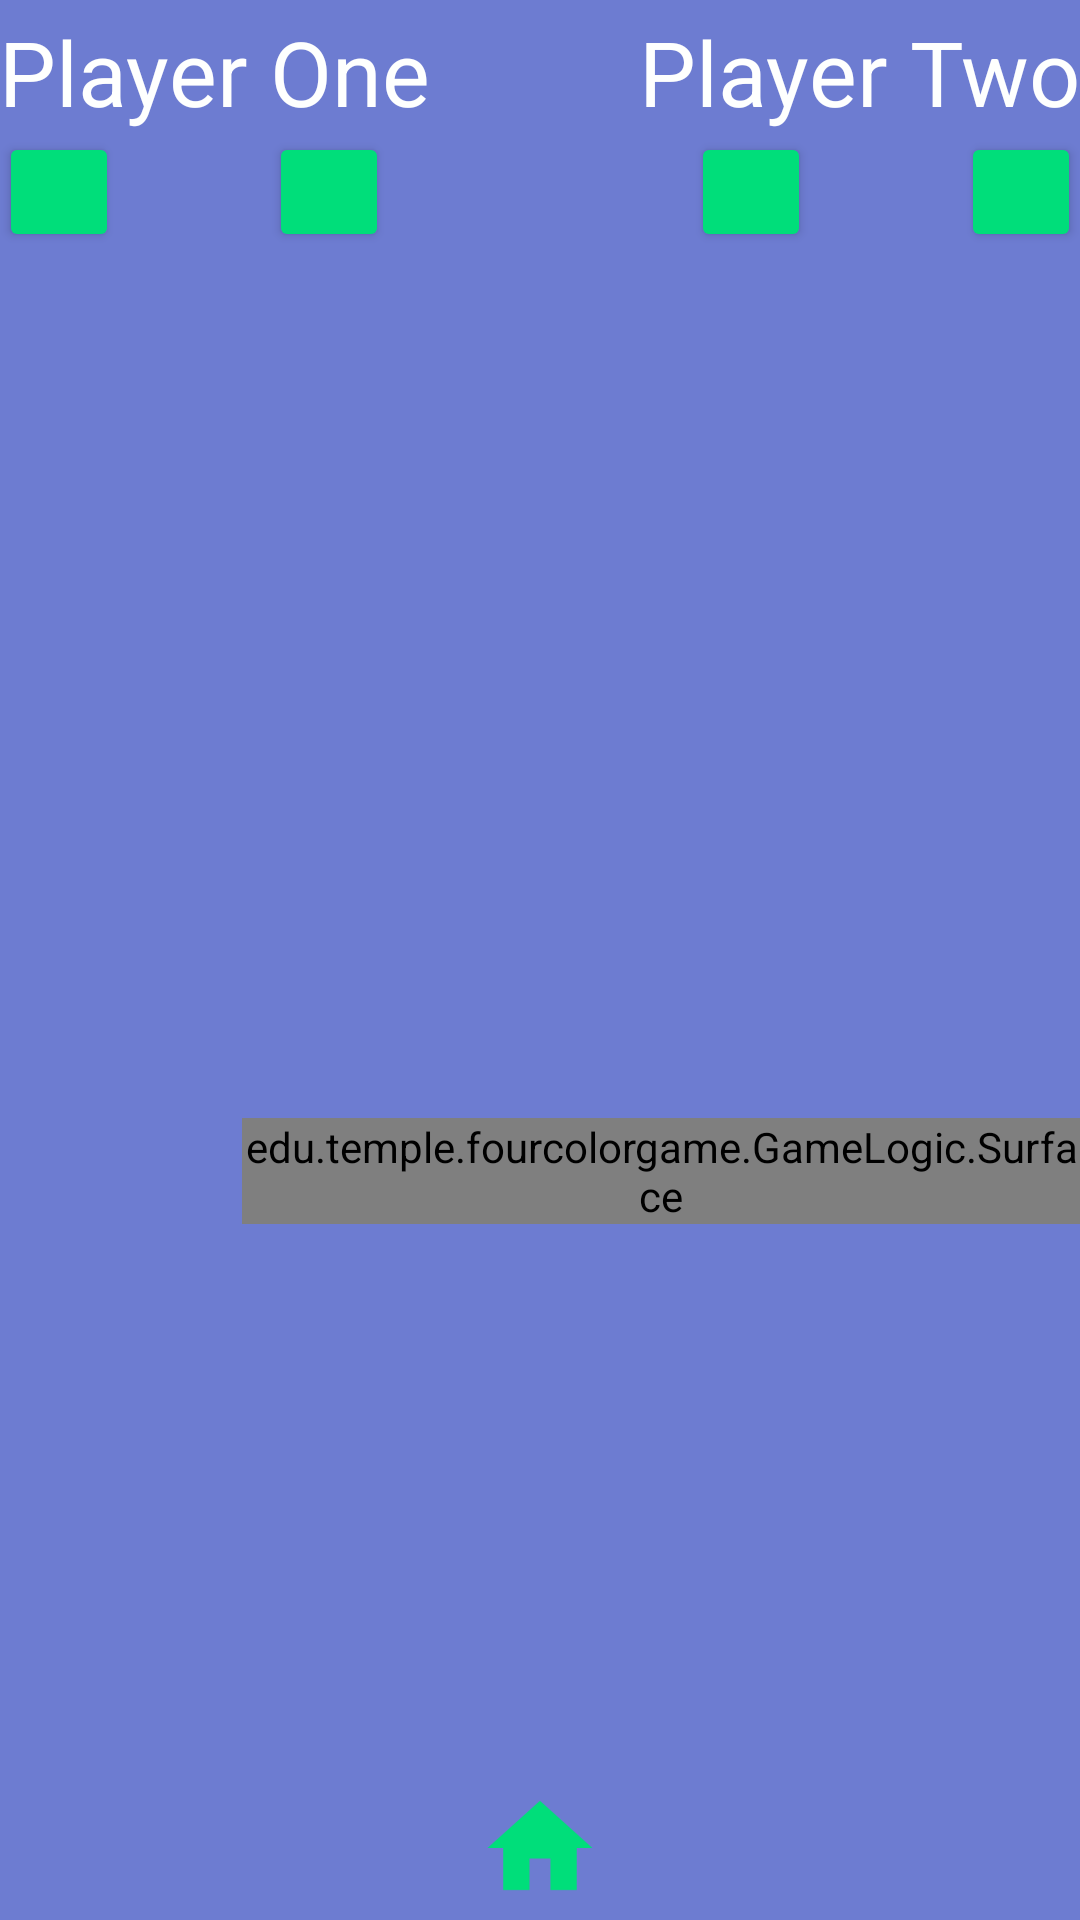

Icon bounding boxes for this 1080 × 1920 phone screenshot, format Rect(x1, y1, x2, y2):
Home: Rect(488, 1801, 592, 1890)
